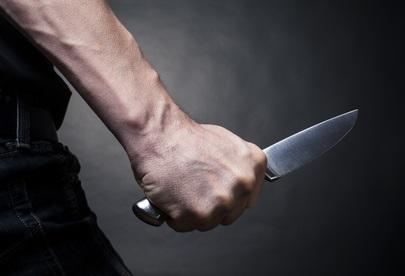weapon: (132, 108, 359, 227)
